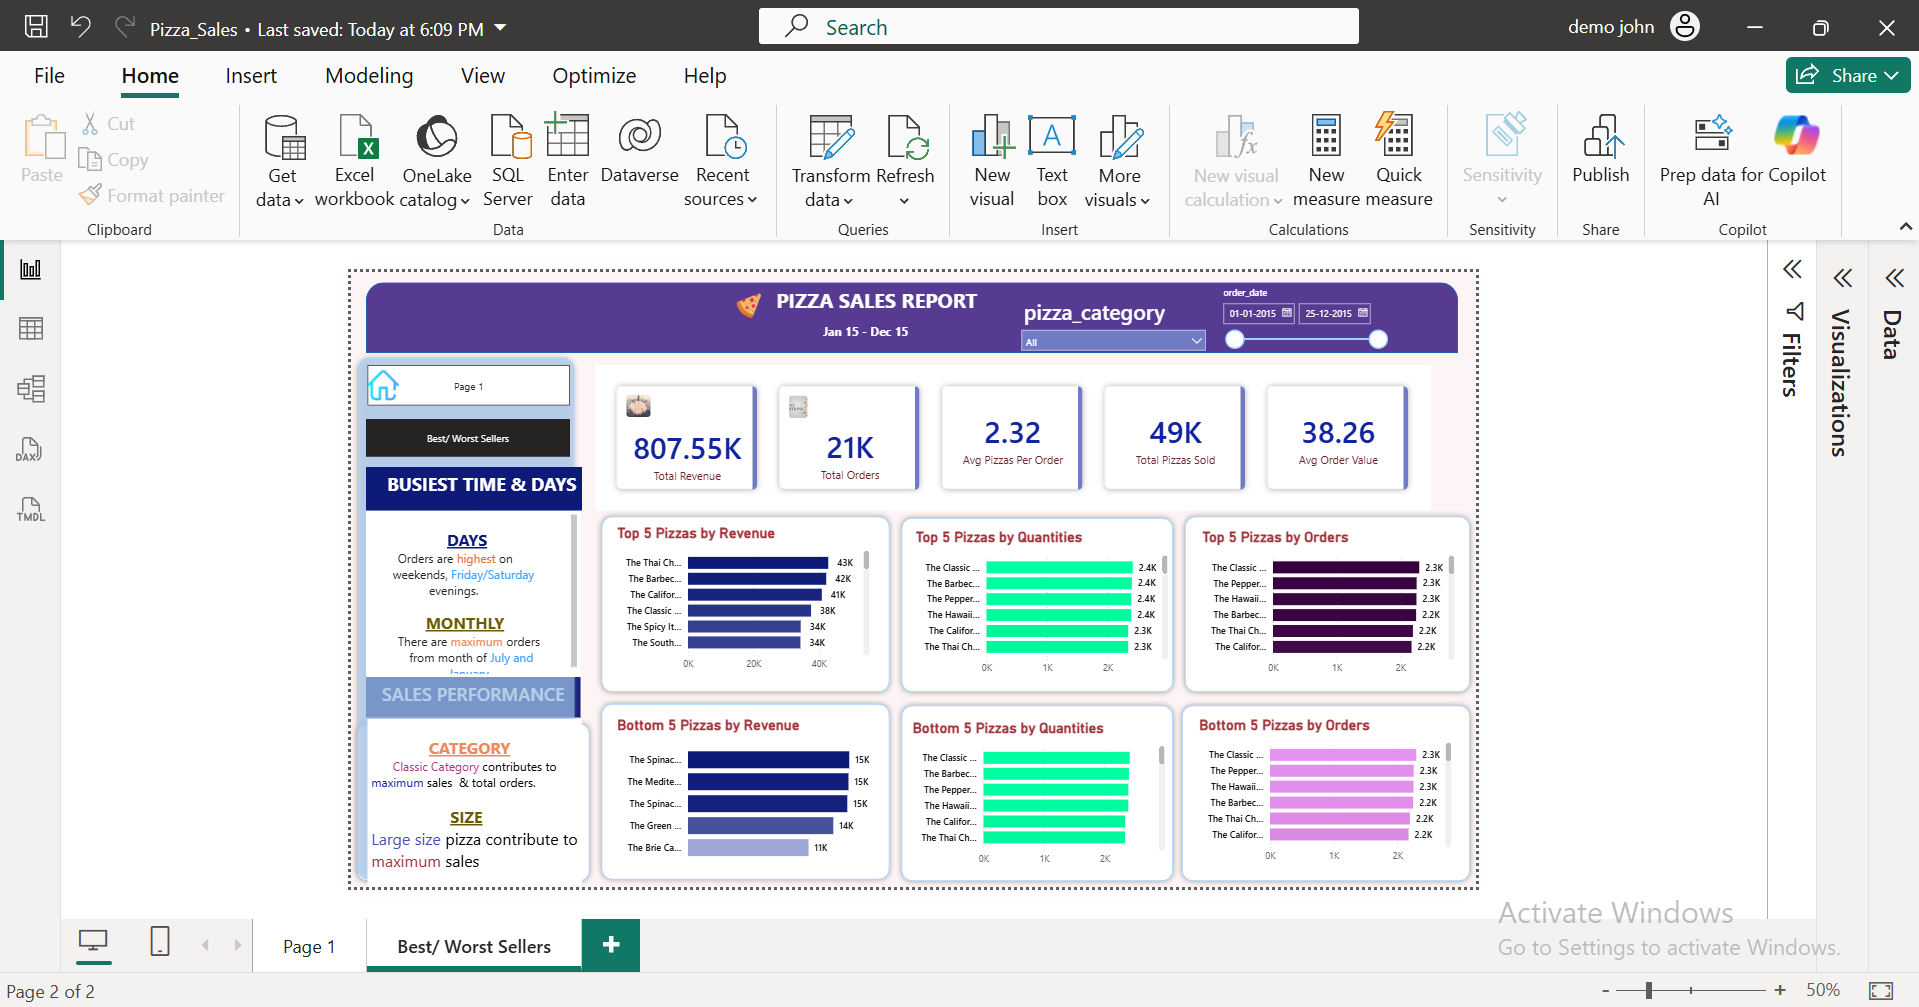

What the dashboard file says about the page in this screenshot:
{"tool":"powerbi","page":{"name":"Best/ Worst Sellers","canvas":[1500,820],"ordinal":1},"visuals":[{"type":"cardVisual","fields":{"Data":["pizza_sales.Total Revenue","pizza_sales.Total Orders","pizza_sales.Avg Pizzas Per Order","pizza_sales.Total Pizzas Sold","pizza_sales.Avg Order Value"]},"box":[326,124,1114,194],"z":0},{"type":"shape","box":[20,14,1456,94],"z":1000},{"type":"textbox","box":[562,14,294,64],"z":2000},{"type":"textbox","box":[624,62,142,46],"z":3000},{"type":"image","box":[512,28,36,34],"z":4000},{"type":"shape","box":[326,318,400,250],"z":5000},{"type":"shape","box":[0,594,326,226],"z":6000},{"type":"textbox","box":[20,540,286,54],"z":7000},{"type":"shape","box":[0,106,306,712],"z":8000},{"type":"textbox","box":[20,318,286,222],"z":9000},{"type":"textbox","box":[20,260,288,58],"z":10000},{"type":"textbox","box":[22,596,286,224],"z":11000},{"type":"slicer","fields":{"Values":["pizza_sales.pizza_category"]},"box":[884,28,266,78],"z":12000},{"type":"slicer","fields":{"Values":["pizza_sales.order_date"]},"box":[1150,14,244,92],"z":13000},{"type":"shape","box":[726,320,378,248],"z":14000},{"type":"shape","box":[1104,318,396,250],"z":15000},{"type":"shape","box":[326,568,400,250],"z":16000},{"type":"shape","box":[726,570,378,250],"z":17000},{"type":"shape","box":[1100,570,400,250],"z":18000},{"type":"clusteredBarChart","title":"Top 5 Pizzas by Revenue","fields":{"Category":["pizza_sales.pizza_name"],"Y":["pizza_sales.Total Revenue"]},"box":[350,336,346,204],"z":19000},{"type":"clusteredBarChart","title":"Bottom 5 Pizzas by Revenue","fields":{"Category":["pizza_sales.pizza_name"],"Y":["pizza_sales.Total Revenue"]},"box":[350,592,346,204],"z":20000},{"type":"clusteredBarChart","title":"Top 5 Pizzas by Quantities","fields":{"Category":["pizza_sales.pizza_name"],"Y":["pizza_sales.Total Pizzas Sold"]},"box":[748,342,346,204],"z":21000},{"type":"clusteredBarChart","title":"Bottom 5 Pizzas by Quantities","fields":{"Category":["pizza_sales.pizza_name"],"Y":["pizza_sales.Total Pizzas Sold"]},"box":[744,596,346,204],"z":22000},{"type":"clusteredBarChart","title":"Top 5 Pizzas by Orders","fields":{"Category":["pizza_sales.pizza_name"],"Y":["pizza_sales.Total Orders"]},"box":[1130,342,346,204],"z":23000},{"type":"clusteredBarChart","title":"Bottom 5 Pizzas by Orders","fields":{"Category":["pizza_sales.pizza_name"],"Y":["pizza_sales.Total Orders"]},"box":[1126,592,346,204],"z":24000},{"type":"pageNavigator","box":[22,124,270,54],"z":25000},{"type":"pageNavigator","box":[20,196,272,50],"z":26000},{"type":"image","box":[22,124,42,54],"z":27000}]}

Visuals, with their boxes on the page's 1500x820 design canvas (x1, y1, x2, y2). These are canvas units, not pixel positions in the 1919x1007 screenshot, which may show the page scaled, cropped or inside an application window:
cardVisual - pizza_sales.Total Revenue x pizza_sales.Total Orders: (326, 124, 1440, 318)
shape: (20, 14, 1476, 108)
textbox: (562, 14, 856, 78)
textbox: (624, 62, 766, 108)
image: (512, 28, 548, 62)
shape: (326, 318, 726, 568)
shape: (0, 594, 326, 820)
textbox: (20, 540, 306, 594)
shape: (0, 106, 306, 818)
textbox: (20, 318, 306, 540)
textbox: (20, 260, 308, 318)
textbox: (22, 596, 308, 820)
slicer - pizza_sales.pizza_category: (884, 28, 1150, 106)
slicer - pizza_sales.order_date: (1150, 14, 1394, 106)
shape: (726, 320, 1104, 568)
shape: (1104, 318, 1500, 568)
shape: (326, 568, 726, 818)
shape: (726, 570, 1104, 820)
shape: (1100, 570, 1500, 820)
"Top 5 Pizzas by Revenue" clusteredBarChart: (350, 336, 696, 540)
"Bottom 5 Pizzas by Revenue" clusteredBarChart: (350, 592, 696, 796)
"Top 5 Pizzas by Quantities" clusteredBarChart: (748, 342, 1094, 546)
"Bottom 5 Pizzas by Quantities" clusteredBarChart: (744, 596, 1090, 800)
"Top 5 Pizzas by Orders" clusteredBarChart: (1130, 342, 1476, 546)
"Bottom 5 Pizzas by Orders" clusteredBarChart: (1126, 592, 1472, 796)
pageNavigator: (22, 124, 292, 178)
pageNavigator: (20, 196, 292, 246)
image: (22, 124, 64, 178)
